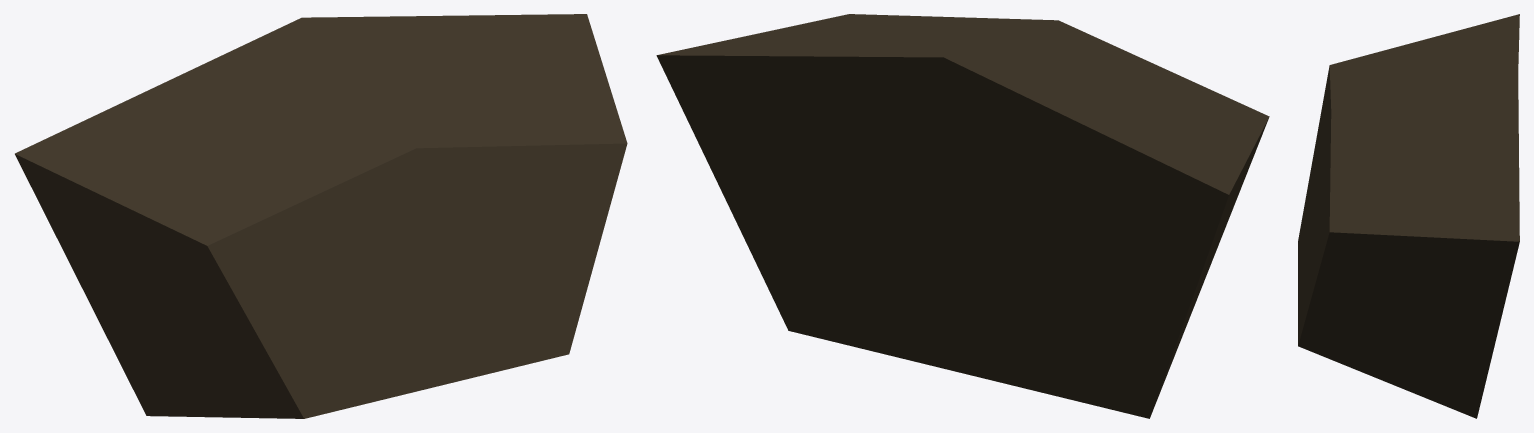
File: SM_Chr_Attach_Beard_01_Patch.fbx
The picture shows the model from 3 angles, left to right: view 1: azimuth 30°, elevation 25°; view 2: azimuth 150°, elevation 25°; view 3: azimuth 270°, elevation 25°; orthographic projection. The views are drawn at different scales.
Visible parts, largest first — view 1: SM_Chr_Attach_Beard_01_Patch; view 2: SM_Chr_Attach_Beard_01_Patch; view 3: SM_Chr_Attach_Beard_01_Patch.
Part boxes in pixels (x1,y1,x2,y2): SM_Chr_Attach_Beard_01_Patch: [15, 14, 627, 418]; SM_Chr_Attach_Beard_01_Patch: [656, 14, 1269, 418]; SM_Chr_Attach_Beard_01_Patch: [1298, 14, 1519, 418].
Size of the model in its own units: 4.63 by 2.59 by 1.9.
